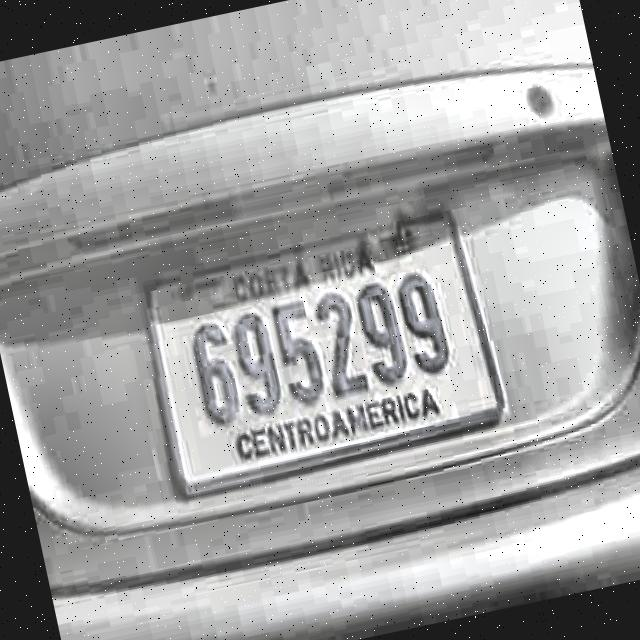license_plate: (150, 216, 500, 493)
